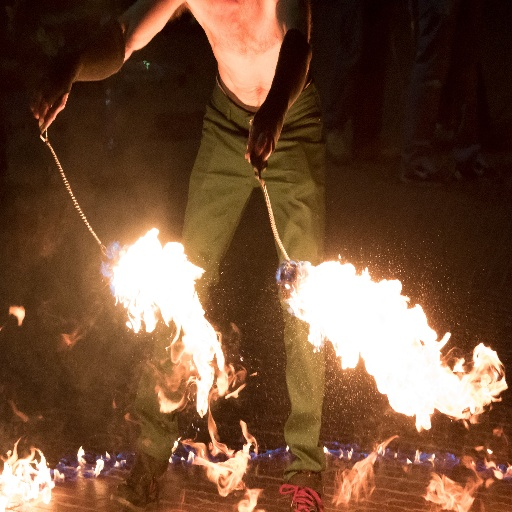hand: (25, 62, 66, 129), (244, 99, 283, 158)
